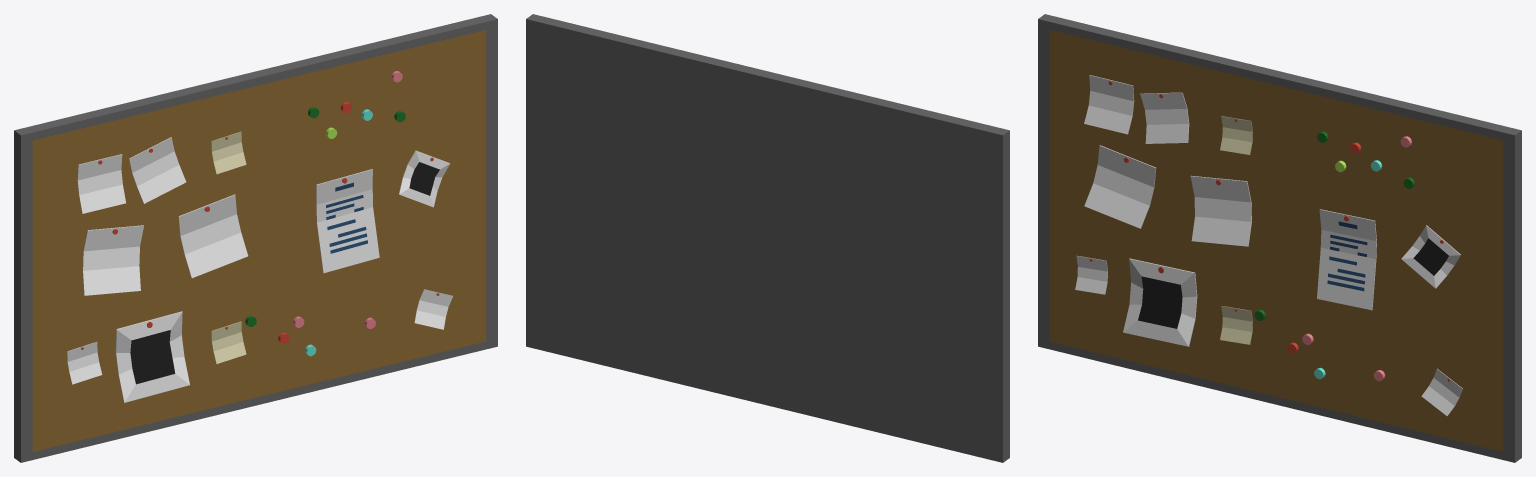
Rendered from informationboard.fbx.
The picture shows the model from 3 angles, left to right: view 1: azimuth 30°, elevation 25°; view 2: azimuth 150°, elevation 25°; view 3: azimuth 330°, elevation 25°; orthographic projection.
Parts seen in each view (by area): view 1: Cube.043; view 2: Cube.043; view 3: Cube.043.
Boxes of the visible parts, x1,y1,x2,y2 form: Cube.043: (14,14,497,462); Cube.043: (526,14,1009,462); Cube.043: (1038,14,1521,462).
Size of the model in its own units: 160 by 105 by 11.18.
